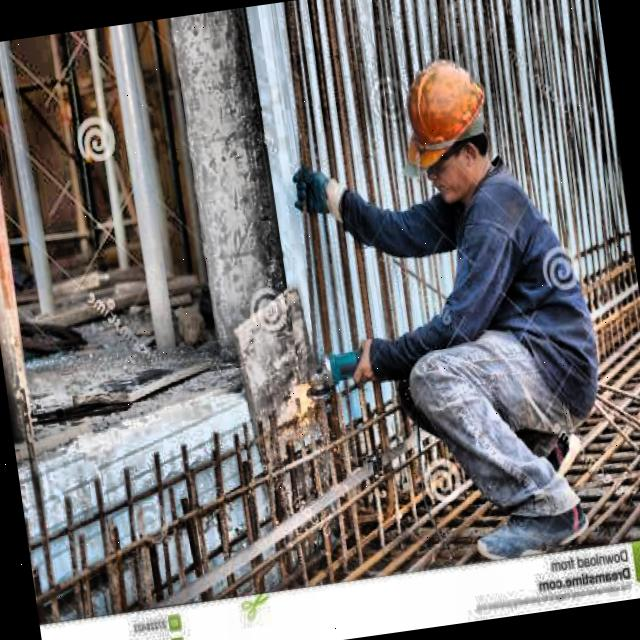helmet: (384, 38, 511, 220)
